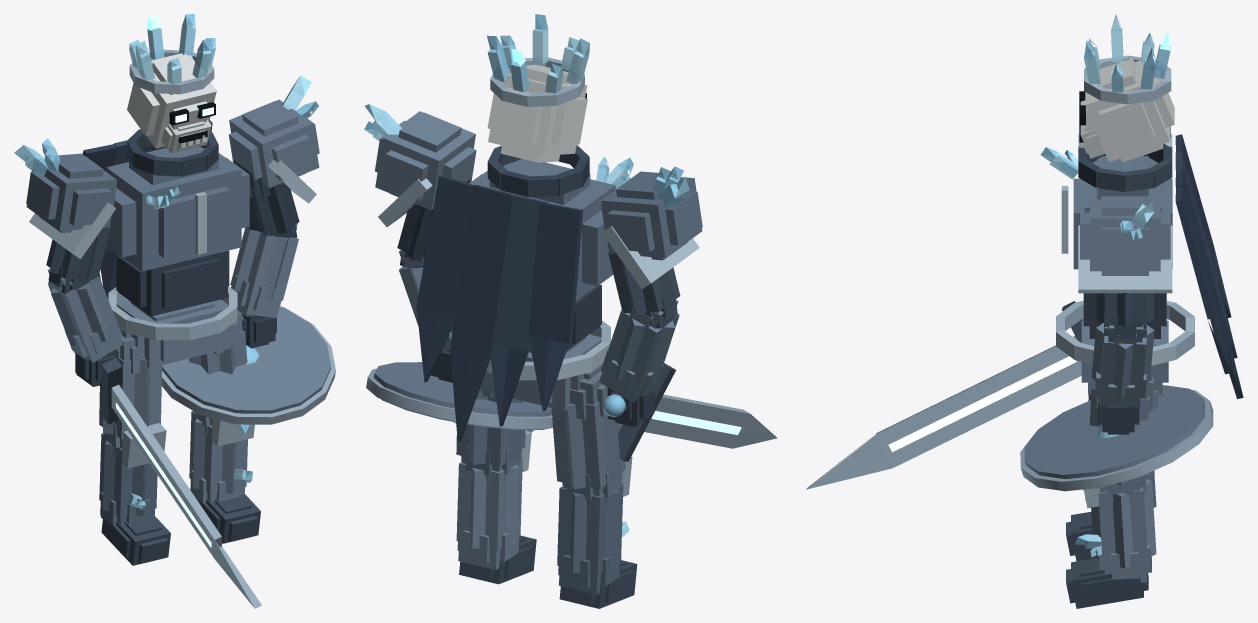
The picture shows the model from 3 angles, left to right: view 1: azimuth 30°, elevation 25°; view 2: azimuth 150°, elevation 25°; view 3: azimuth 270°, elevation 25°; orthographic projection. The views are drawn at different scales.
Visible parts, largest first — view 1: FrostRevenant; view 2: FrostRevenant; view 3: FrostRevenant.
Boxes of the visible parts, left/top/right/bottom form: FrostRevenant: left=14, top=14, right=335, bottom=608; FrostRevenant: left=364, top=14, right=777, bottom=608; FrostRevenant: left=806, top=14, right=1243, bottom=608.
Bounding box in the file's own units: 0.9238 × 1.5 × 1.09.
